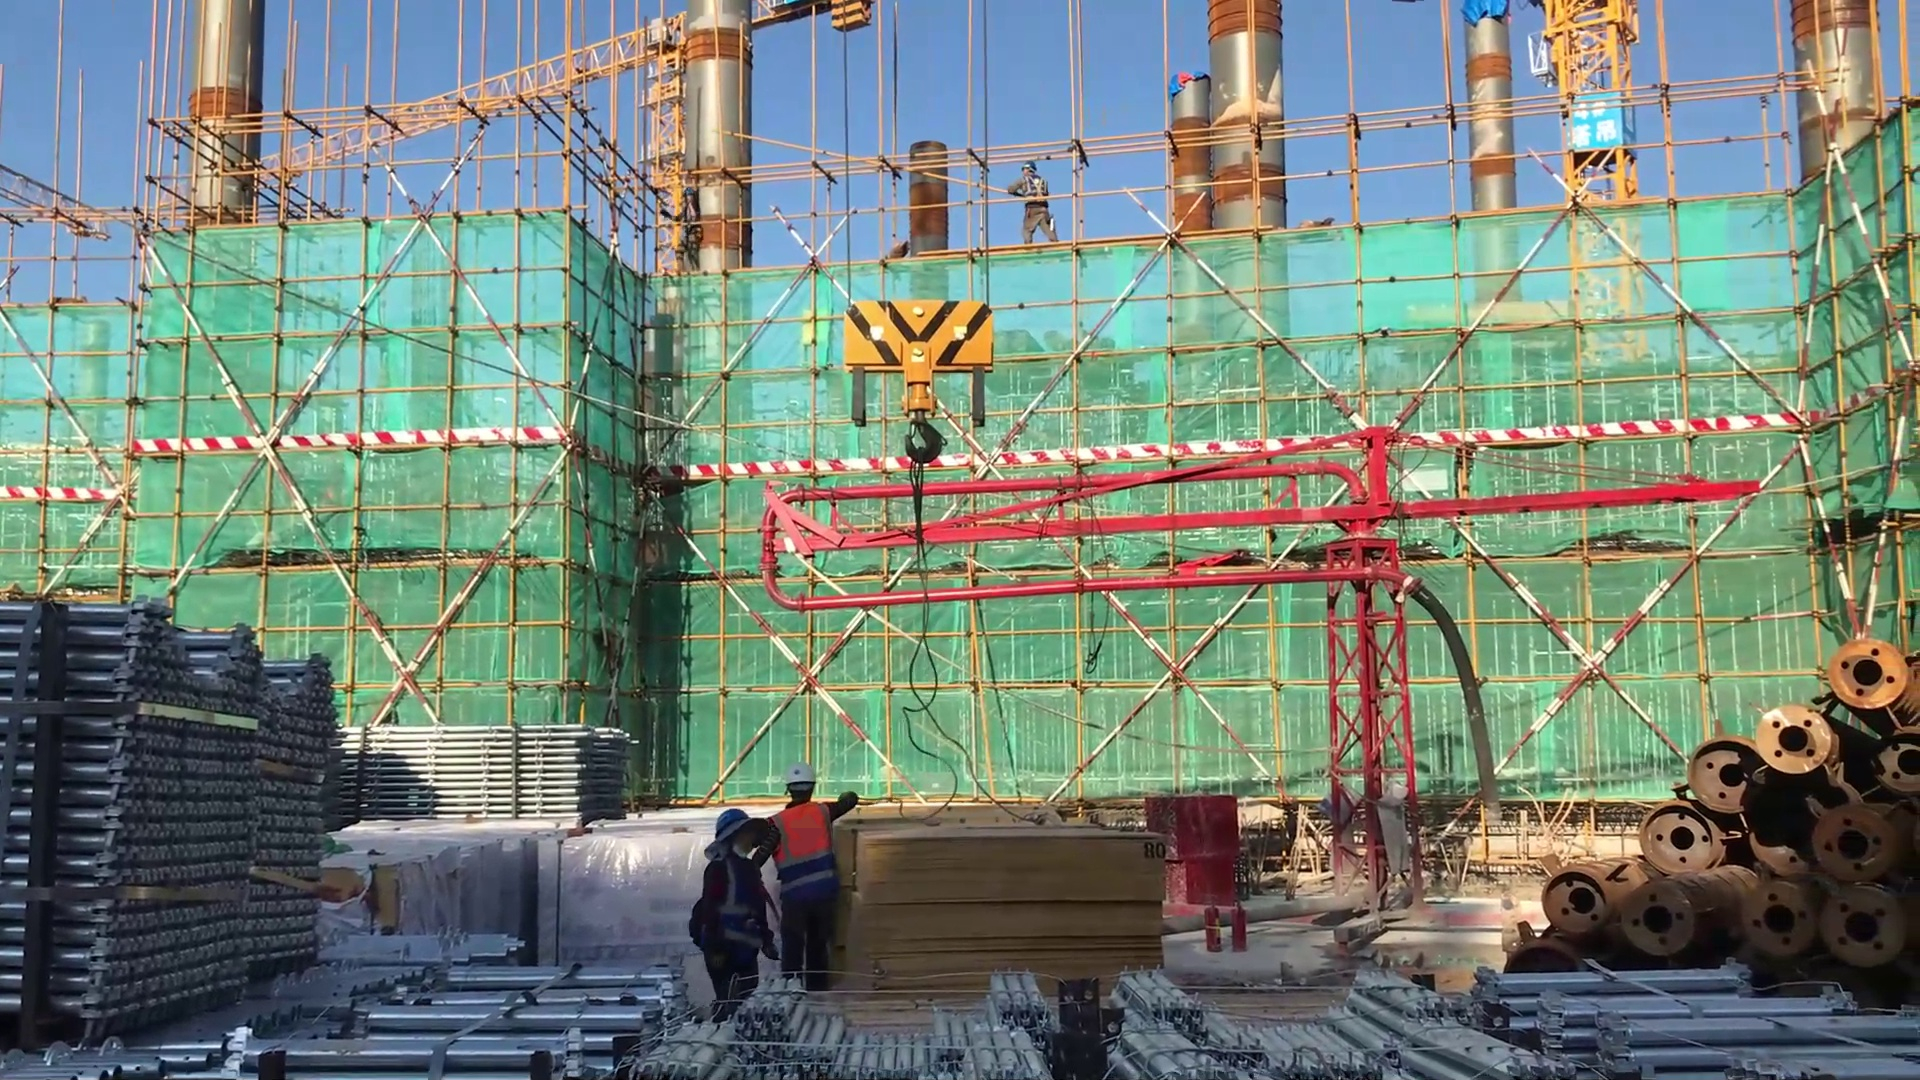board: (829, 806, 1166, 1001)
helmet: (705, 809, 761, 858), (777, 763, 823, 805), (1016, 159, 1043, 183)
hook: (836, 287, 1002, 542)
person: (771, 758, 864, 1011), (689, 790, 775, 1034), (1004, 150, 1066, 252)
scaffold: (1, 592, 341, 1024), (86, 931, 712, 1080), (1450, 963, 1920, 1077), (313, 706, 647, 838), (1108, 960, 1475, 1080), (716, 970, 1101, 1080)
slogan: (1575, 91, 1633, 166)
vest: (769, 802, 842, 904), (701, 851, 768, 963), (1024, 173, 1052, 209)
